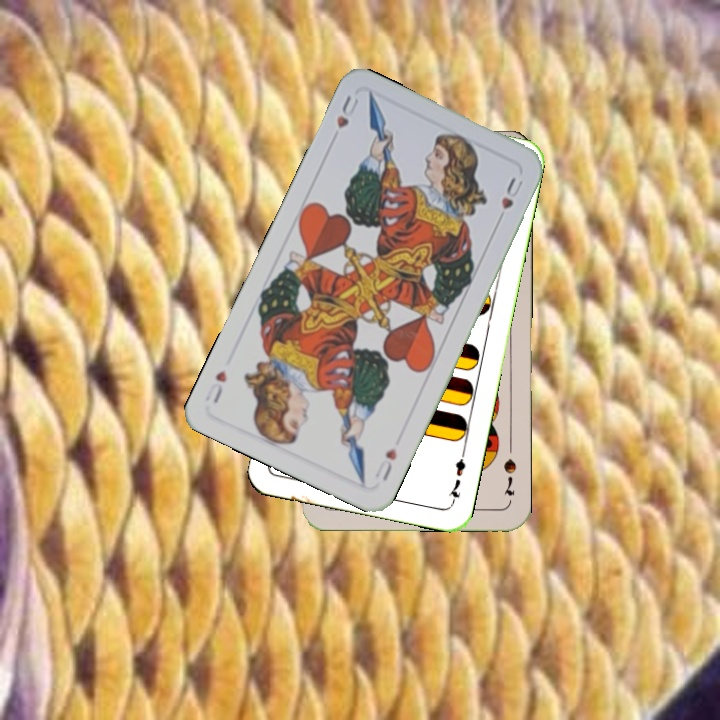E7: (444, 448, 469, 506)
HU: (370, 444, 400, 485), (332, 91, 361, 131)
S7: (500, 455, 519, 498)
